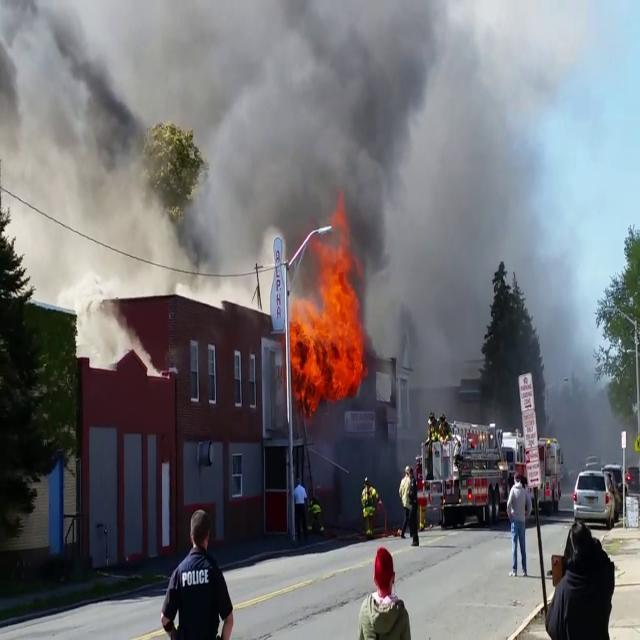Fire: (286, 237, 369, 399)
Smoke: (166, 1, 606, 292), (0, 0, 471, 266), (185, 0, 458, 264), (0, 2, 186, 290)
